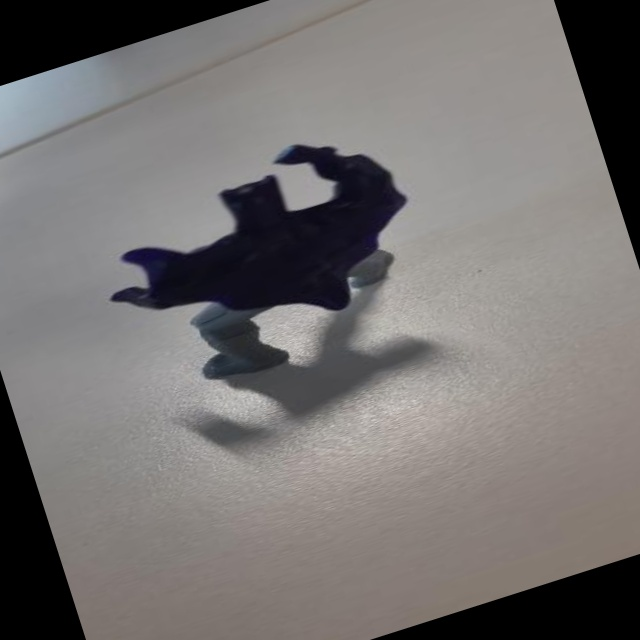Batman: (69, 110, 462, 411)
